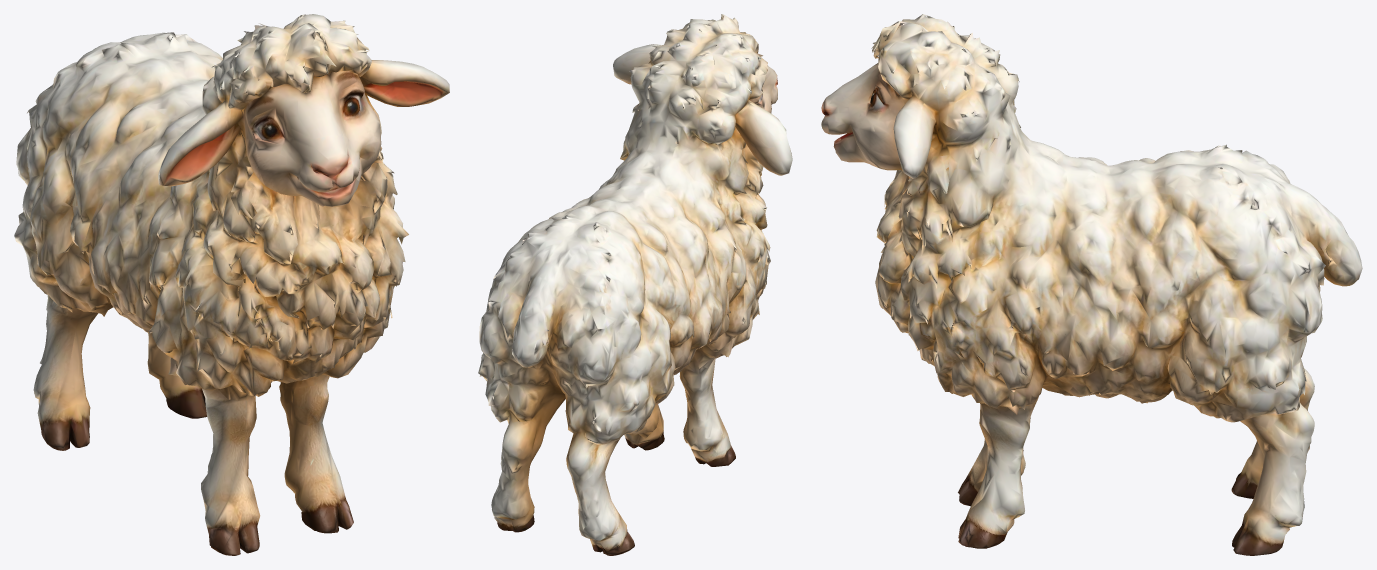
The model's file is sheep.glb.
The picture shows the model from 3 angles, left to right: view 1: azimuth 30°, elevation 25°; view 2: azimuth 150°, elevation 25°; view 3: azimuth 270°, elevation 25°; orthographic projection. The views are drawn at different scales.
Parts seen in each view (by area): view 1: tripo_node_6bd7c664-31b4-4c08-b499-e5cf0e509dda; view 2: tripo_node_6bd7c664-31b4-4c08-b499-e5cf0e509dda; view 3: tripo_node_6bd7c664-31b4-4c08-b499-e5cf0e509dda.
Part boxes in pixels (box(x1,y1,x2,y2)): tripo_node_6bd7c664-31b4-4c08-b499-e5cf0e509dda: box(14, 14, 449, 555); tripo_node_6bd7c664-31b4-4c08-b499-e5cf0e509dda: box(478, 14, 792, 555); tripo_node_6bd7c664-31b4-4c08-b499-e5cf0e509dda: box(821, 14, 1362, 555).
Bounding box in the file's own units: 0.4917 × 0.9745 × 0.9702.
Materials: 1 (1 with a texture image).
